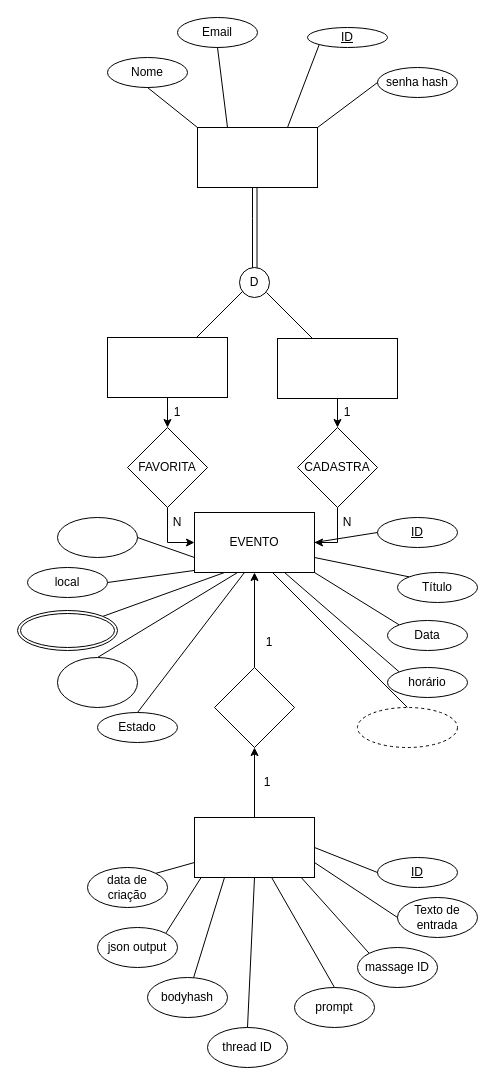
Some shapes in this 495 by 1085 pixel diagram are drawn without their labels. The shapes that lost their labels are listed below. From the top down, each one's centre as x and y in pixels, then its label:
(257,157): USUÁRIO
(167,367): USUÁRIO COMUM
(337,368): ADMINISTRADOR
(97,537): link de inscrição
(67,630): Emails associados
(97,682): tipo de registro
(254,707): GERA
(407,727): dt ultima mod.
(254,847): EXTRAÇÃO
